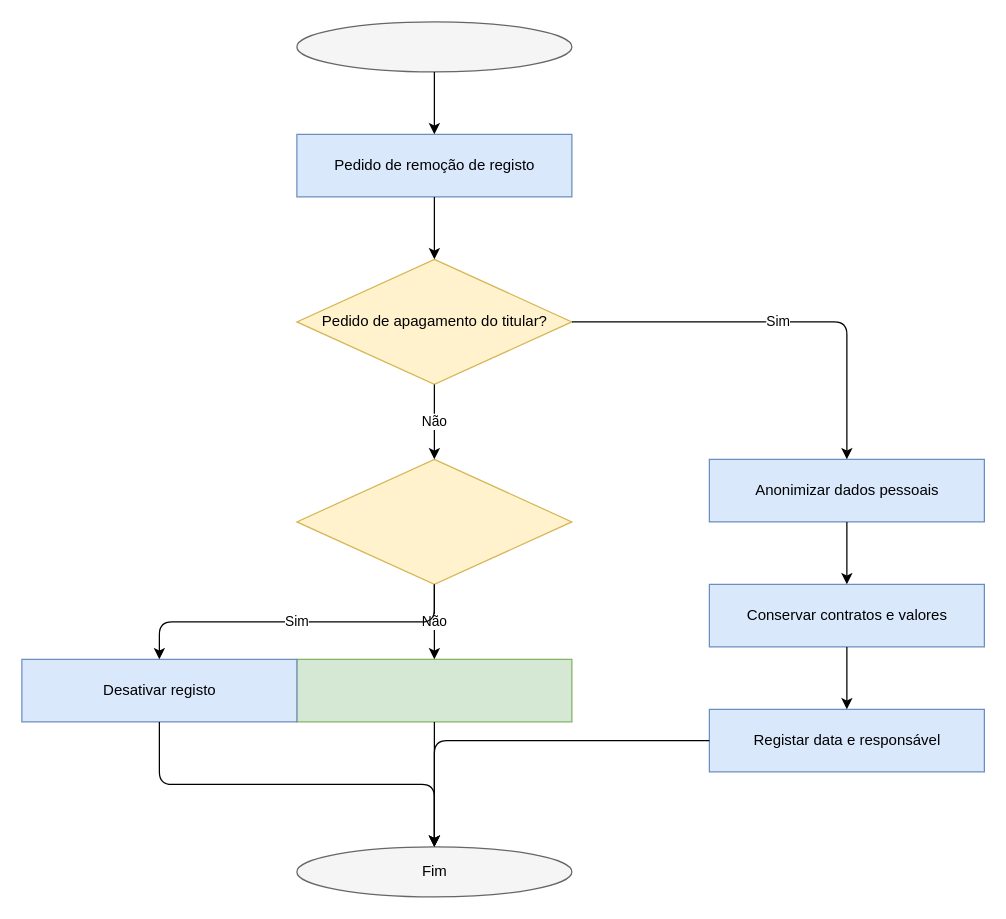
Image size: 1006x919. Some labels were removed from this diagram. Each missing label, with the centre of its shape:
"Eliminar definitivamente" belongs at point 434,690.
"Início" belongs at point 434,46.
"Tem dependências associadas?" belongs at point 434,521.
